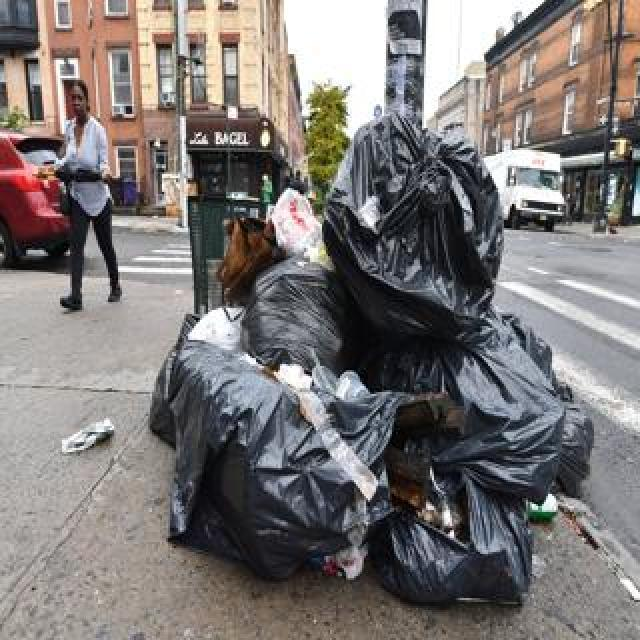high trash: (151, 114, 590, 604)
less trash: (61, 419, 115, 453)
